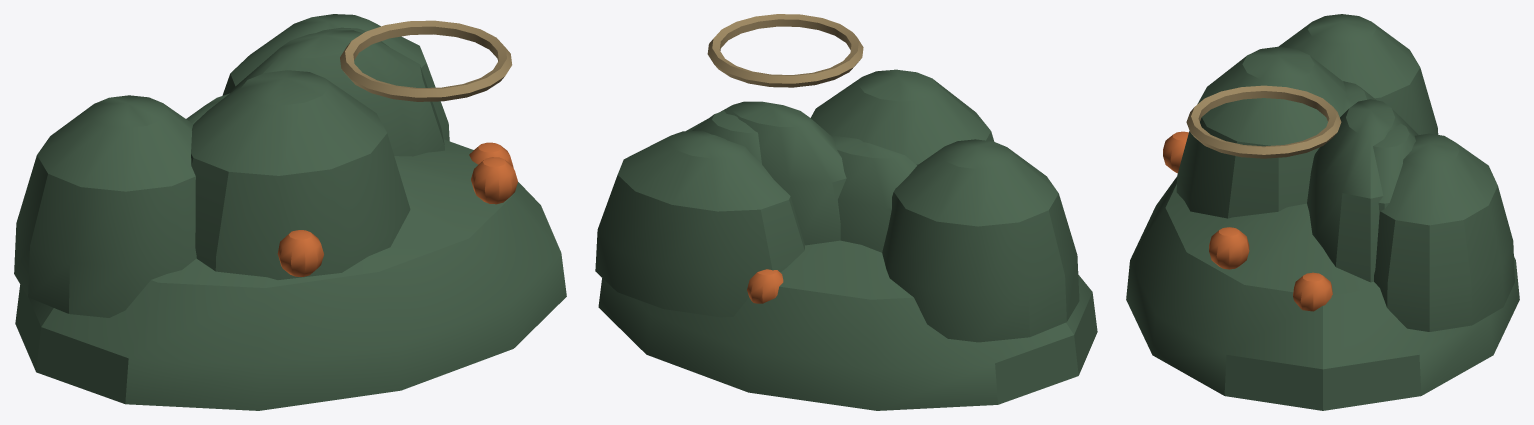
File: prop_net_pile_low.glb
3 renders of one model, left to right at view 1: azimuth 30°, elevation 25°; view 2: azimuth 150°, elevation 25°; view 3: azimuth 270°, elevation 25°, orthographic. The views are drawn at different scales.
Parts seen in each view (by area): view 1: Nets; view 2: Nets; view 3: Nets.
Part boxes in pixels (x1=…): Nets: x1=14, y1=14, x2=566, y2=410; Nets: x1=595, y1=14, x2=1097, y2=410; Nets: x1=1126, y1=14, x2=1519, y2=410.
Size of what is drawn, in the model's own units: 1.98 by 0.9558 by 1.48.
